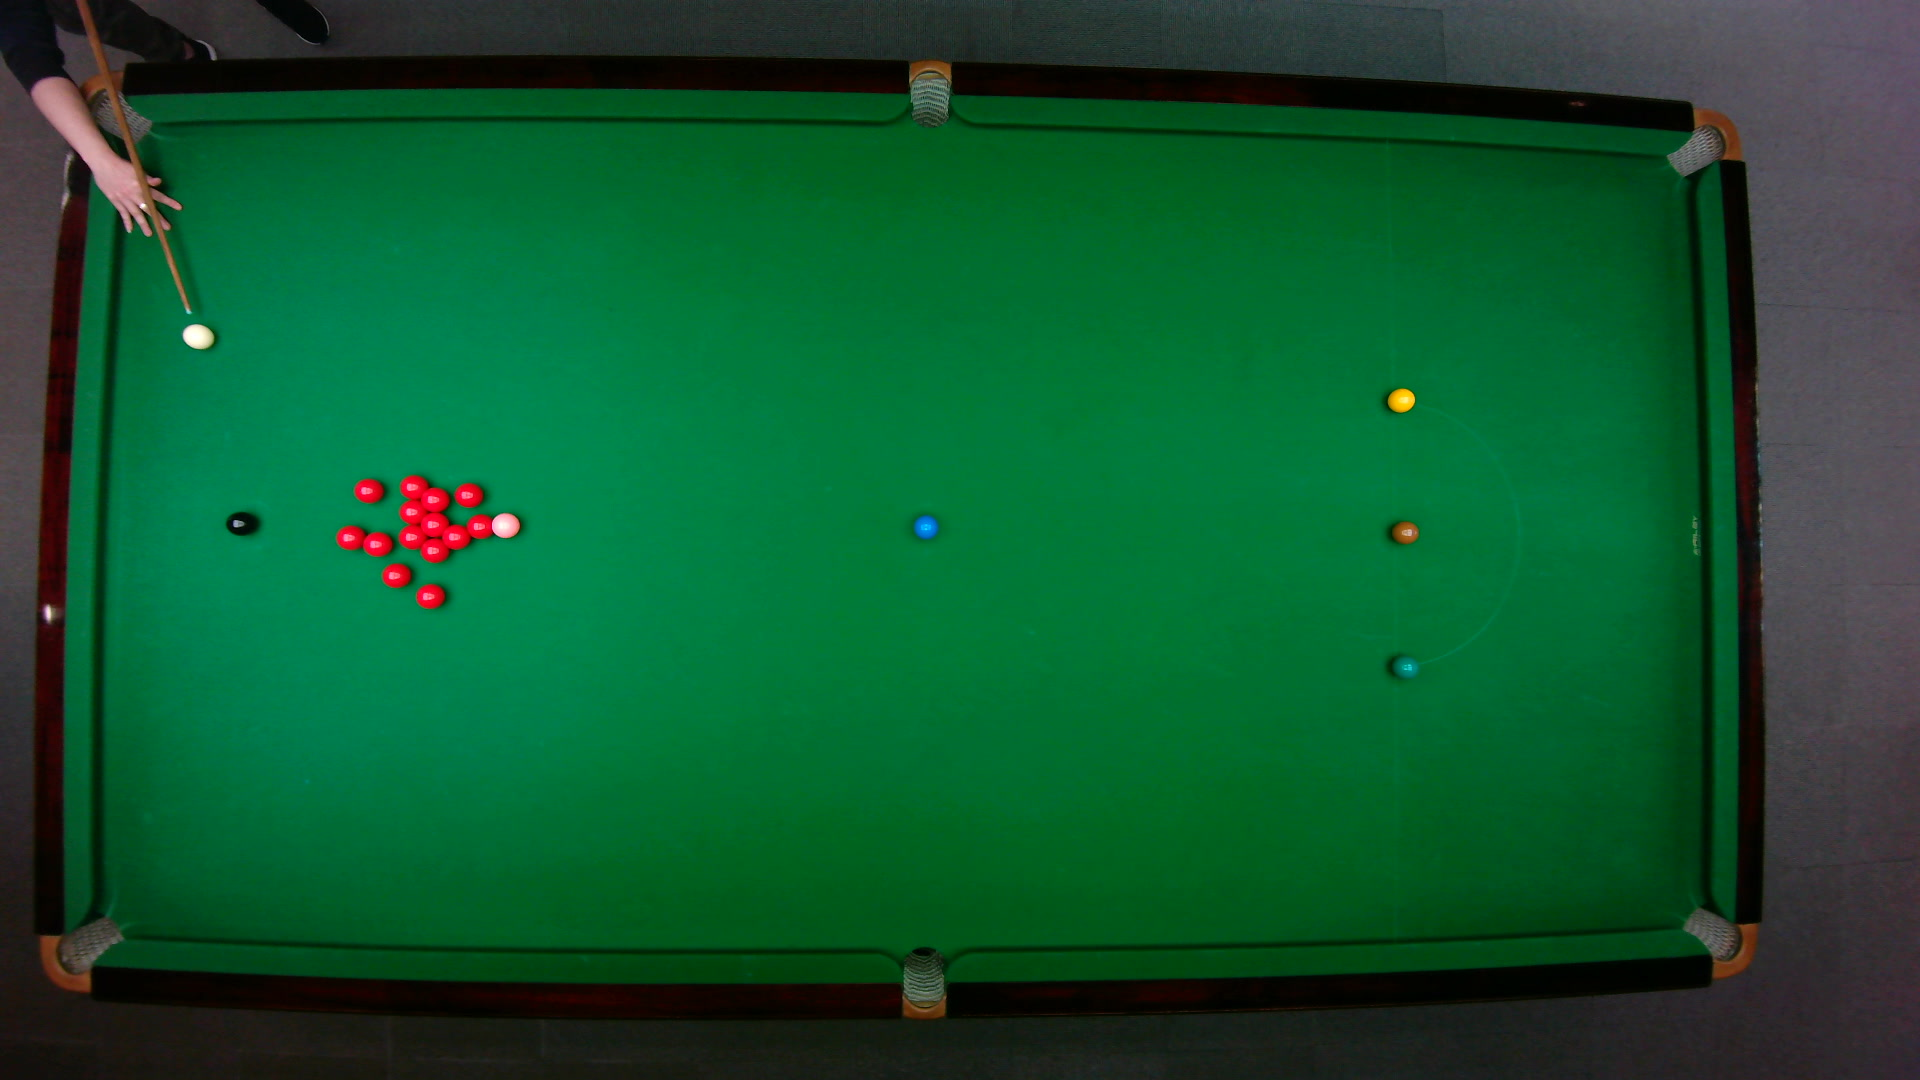bag: (38, 914, 125, 993), (1679, 905, 1758, 978), (76, 69, 152, 145), (1663, 107, 1742, 177), (901, 944, 944, 1021), (909, 57, 949, 128)
black: (223, 510, 256, 535)
blue: (913, 512, 938, 539)
brown: (1389, 520, 1419, 545)
cue: (73, 0, 194, 313)
green: (1389, 651, 1419, 679)
pink: (488, 510, 521, 539)
red: (359, 529, 393, 556), (378, 560, 411, 588), (418, 535, 450, 563), (334, 522, 365, 550), (414, 582, 446, 609), (352, 476, 384, 502), (397, 472, 429, 498), (439, 522, 471, 549), (454, 480, 484, 506), (419, 485, 450, 512), (397, 500, 429, 524), (465, 512, 492, 539), (397, 524, 426, 549), (419, 512, 448, 535)
white: (179, 320, 216, 349)
yellow: (1385, 386, 1416, 413)
zone: (1389, 400, 1520, 666)
